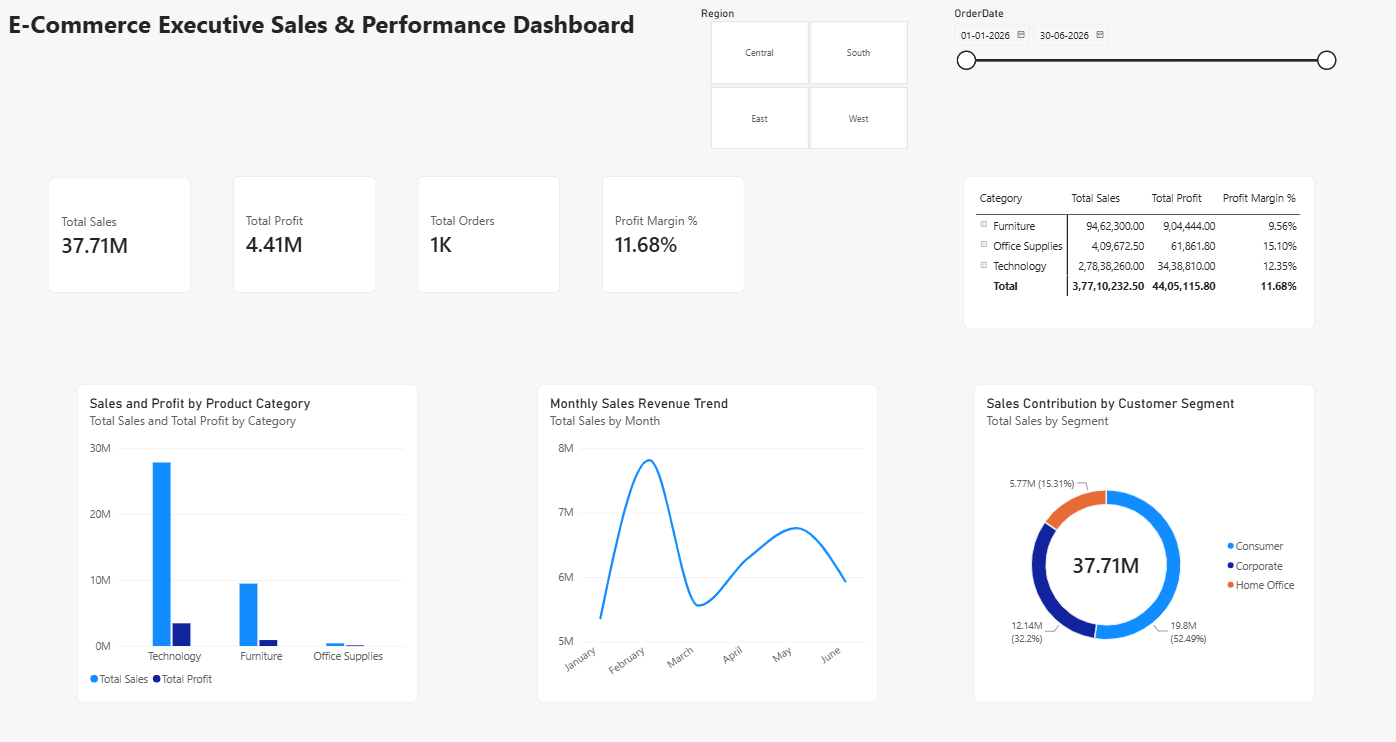

What the dashboard file says about the page in this screenshot:
{"tool":"powerbi","page":{"name":"Page 1","canvas":[1920,1080],"ordinal":0},"visuals":[{"type":"textbox","box":[12,22,862,74],"z":0},{"type":"slicer","fields":{"Values":["ecommerce_cleaned_data.Region"]},"box":[928,22,302,192],"z":1000},{"type":"slicer","fields":{"Values":["ecommerce_cleaned_data.OrderDate"]},"box":[1266,22,520,146],"z":2000},{"type":"clusteredColumnChart","title":"Sales and Profit by Product Category","fields":{"Category":["ecommerce_cleaned_data.Category"],"Y":["_Measures.Total Sales","_Measures.Total Profit"]},"box":[104,526,454,424],"z":2005},{"type":"donutChart","title":"Sales Contribution by Customer Segment","fields":{"Category":["ecommerce_cleaned_data.Segment"],"Y":["_Measures.Total Sales"]},"box":[1300,526,454,424],"z":2006},{"type":"lineChart","title":"Monthly Sales Revenue Trend","fields":{"Category":["ecommerce_cleaned_data.OrderDate.Variation.Date Hierarchy.Month"],"Y":["_Measures.Total Sales"]},"box":[718,526,454,424],"z":2007},{"type":"pivotTable","fields":{"Rows":["ecommerce_cleaned_data.Category","ecommerce_cleaned_data.Product"],"Values":["_Measures.Total Sales","_Measures.Total Profit","_Measures.Profit Margin %"]},"box":[1286,248,468,204],"z":2008},{"type":"cardVisual","fields":{"Data":["_Measures.Total Sales"]},"box":[66,250,190,154],"z":2009},{"type":"cardVisual","fields":{"Data":["_Measures.Total Profit"]},"box":[312,248,190,156],"z":2010},{"type":"cardVisual","fields":{"Data":["_Measures.Total Orders"]},"box":[558,248,190,156],"z":2011},{"type":"cardVisual","fields":{"Data":["_Measures.Profit Margin %"]},"box":[804,248,190,156],"z":2012}]}

Visuals, with their boxes on the page's 1920x1080 design canvas (x1, y1, x2, y2). These are canvas units, not pixel positions in the 1396x742 screenshot, which may show the page scaled, cropped or inside an application window:
textbox: {"x1": 12, "y1": 22, "x2": 874, "y2": 96}
slicer - ecommerce_cleaned_data.Region: {"x1": 928, "y1": 22, "x2": 1230, "y2": 214}
slicer - ecommerce_cleaned_data.OrderDate: {"x1": 1266, "y1": 22, "x2": 1786, "y2": 168}
"Sales and Profit by Product Category" clusteredColumnChart: {"x1": 104, "y1": 526, "x2": 558, "y2": 950}
"Sales Contribution by Customer Segment" donutChart: {"x1": 1300, "y1": 526, "x2": 1754, "y2": 950}
"Monthly Sales Revenue Trend" lineChart: {"x1": 718, "y1": 526, "x2": 1172, "y2": 950}
pivotTable - ecommerce_cleaned_data.Category x ecommerce_cleaned_data.Product: {"x1": 1286, "y1": 248, "x2": 1754, "y2": 452}
cardVisual - _Measures.Total Sales: {"x1": 66, "y1": 250, "x2": 256, "y2": 404}
cardVisual - _Measures.Total Profit: {"x1": 312, "y1": 248, "x2": 502, "y2": 404}
cardVisual - _Measures.Total Orders: {"x1": 558, "y1": 248, "x2": 748, "y2": 404}
cardVisual - _Measures.Profit Margin %: {"x1": 804, "y1": 248, "x2": 994, "y2": 404}
